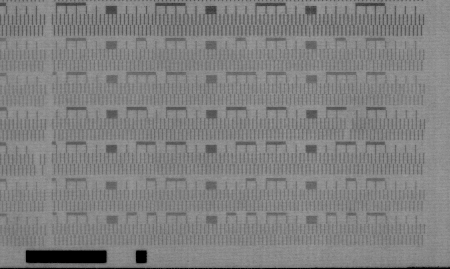Broken hole: (30, 152, 44, 178), (341, 117, 355, 141)
Oblique printing: (304, 25, 317, 40)
